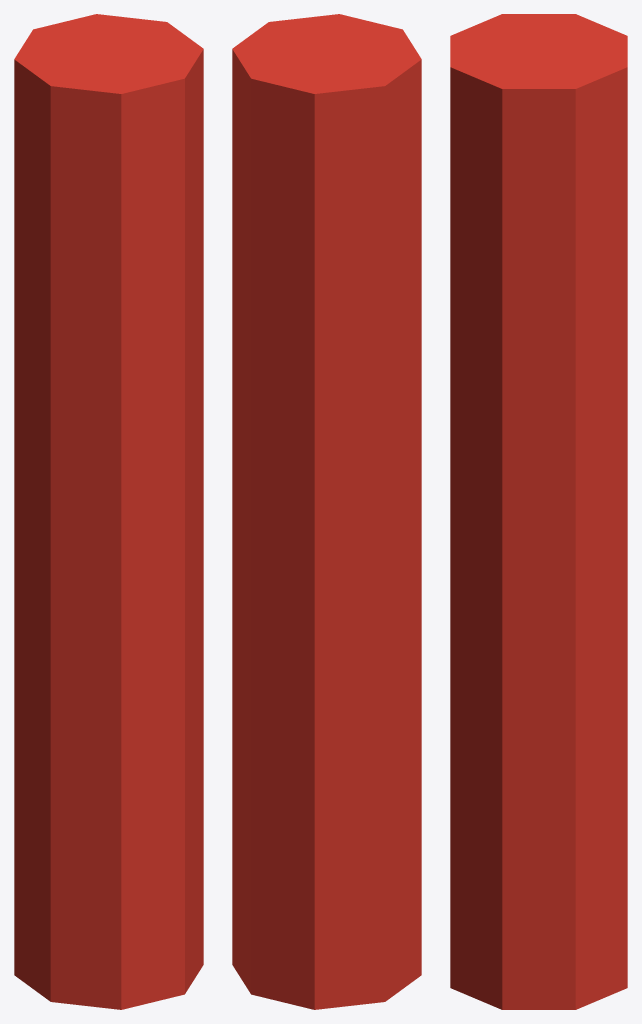
File: pawn_body-faceted.glb
3 renders of one model, left to right at view 1: azimuth 30°, elevation 25°; view 2: azimuth 150°, elevation 25°; view 3: azimuth 270°, elevation 25°, orthographic.
Parts seen in each view (by area): view 1: pawn_body-faceted; view 2: pawn_body-faceted; view 3: pawn_body-faceted.
Boxes of the visible parts, left/top/right/bottom form: pawn_body-faceted: left=14, top=14, right=203, bottom=1009; pawn_body-faceted: left=232, top=14, right=421, bottom=1009; pawn_body-faceted: left=450, top=14, right=627, bottom=1009.
Bounding box in the file's own units: 0.1748 × 1 × 0.1748.
